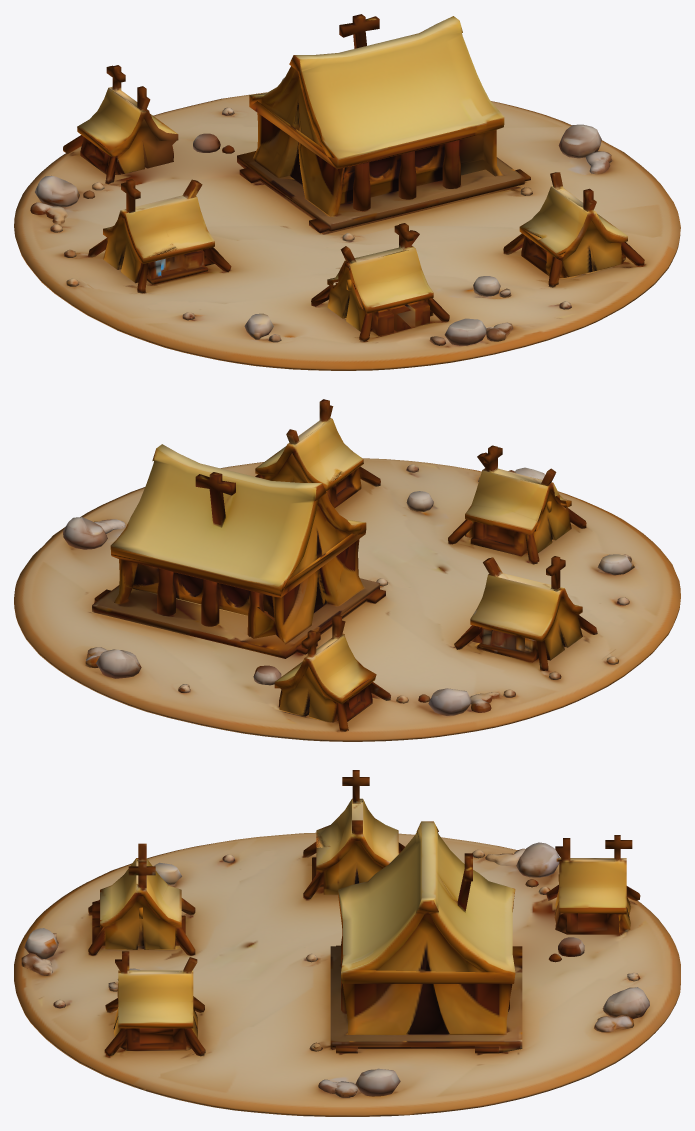
File: camp_tent.fbx
3 renders of one model, top to bottom at view 1: azimuth 30°, elevation 25°; view 2: azimuth 150°, elevation 25°; view 3: azimuth 270°, elevation 25°, orthographic.
Visible parts, largest first — view 1: texture_pbr_v128; view 2: texture_pbr_v128; view 3: texture_pbr_v128.
Part boxes in pixels (box(x1,y1,x2,y2)): texture_pbr_v128: box(14, 14, 680, 370); texture_pbr_v128: box(14, 399, 680, 741); texture_pbr_v128: box(14, 770, 680, 1116).
Bounding box in the file's own units: 190 × 48.62 × 190.
1 material, 1 textured.
